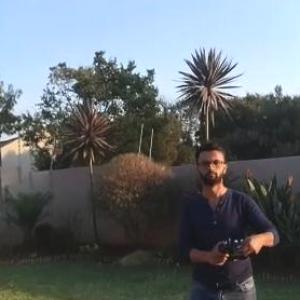follow: (171, 132, 285, 299)
